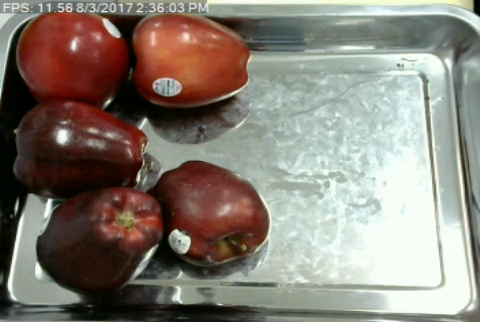Apple: (31, 181, 165, 299), (9, 95, 149, 196), (154, 157, 274, 271), (127, 5, 252, 111), (13, 8, 129, 107)
